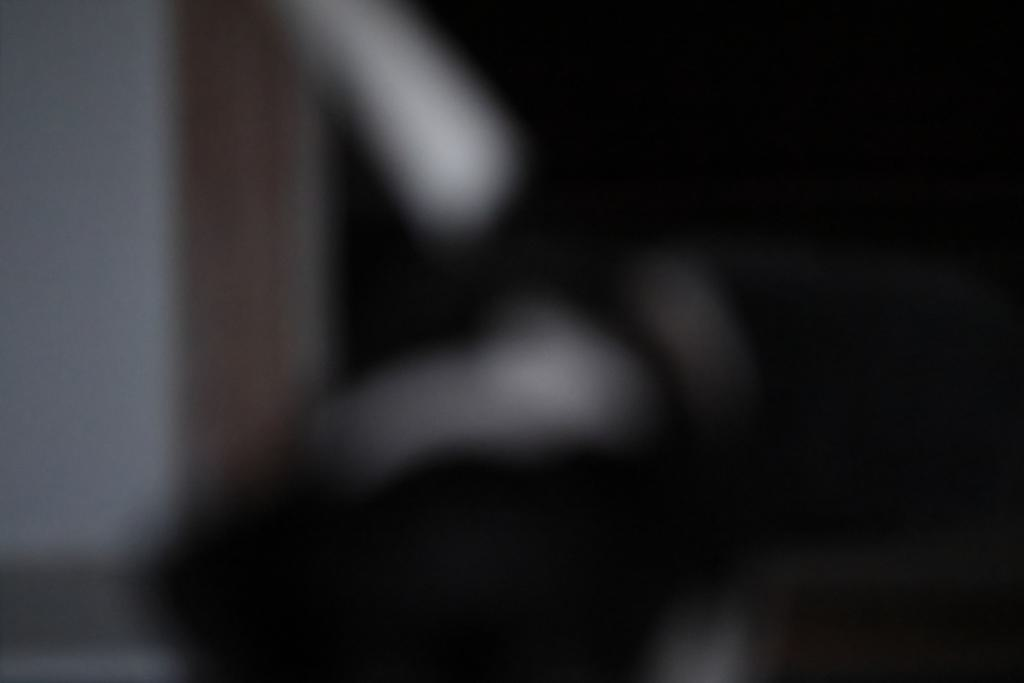Dog: (106, 0, 824, 683)
